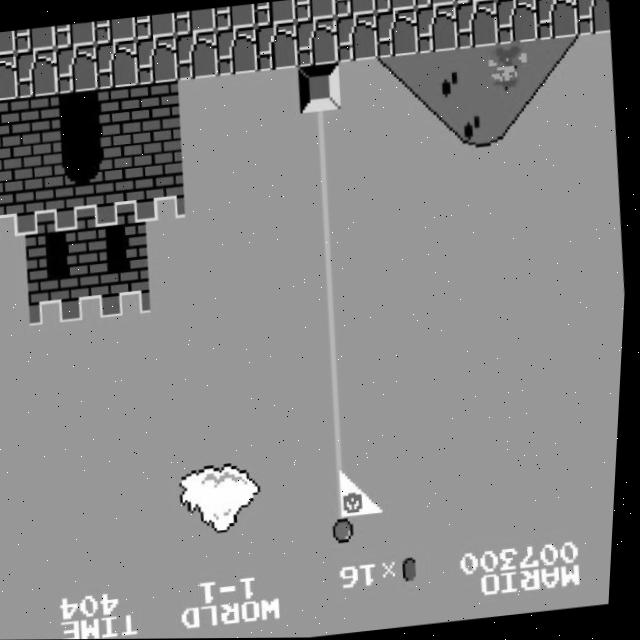1- brick_block: (16, 94, 64, 144)
11- little_mario: (484, 39, 534, 92)
17- undestructible_block: (53, 43, 101, 94), (453, 0, 501, 50), (413, 4, 461, 54), (373, 9, 421, 59), (333, 13, 381, 63), (293, 17, 341, 67), (253, 22, 301, 72), (213, 26, 261, 76), (173, 30, 221, 80), (133, 35, 181, 85), (93, 39, 141, 89), (13, 48, 61, 98), (492, 0, 540, 45), (532, 0, 580, 41), (573, 0, 612, 37), (133, 12, 177, 40), (53, 21, 97, 49), (253, 0, 297, 27), (213, 4, 257, 31), (173, 8, 217, 35), (93, 17, 137, 44), (13, 26, 57, 53), (0, 52, 21, 102), (292, 0, 336, 22), (332, 0, 376, 17), (372, 0, 416, 13), (0, 30, 17, 57), (413, 0, 456, 9), (452, 0, 495, 4)
7- goal_pole: (298, 108, 347, 158), (313, 335, 361, 386), (325, 517, 373, 567), (322, 472, 370, 522), (311, 290, 359, 340), (305, 199, 353, 249), (317, 381, 364, 431), (308, 245, 355, 295), (302, 154, 349, 204), (320, 427, 367, 476)
9- hard_block: (296, 63, 344, 113)
